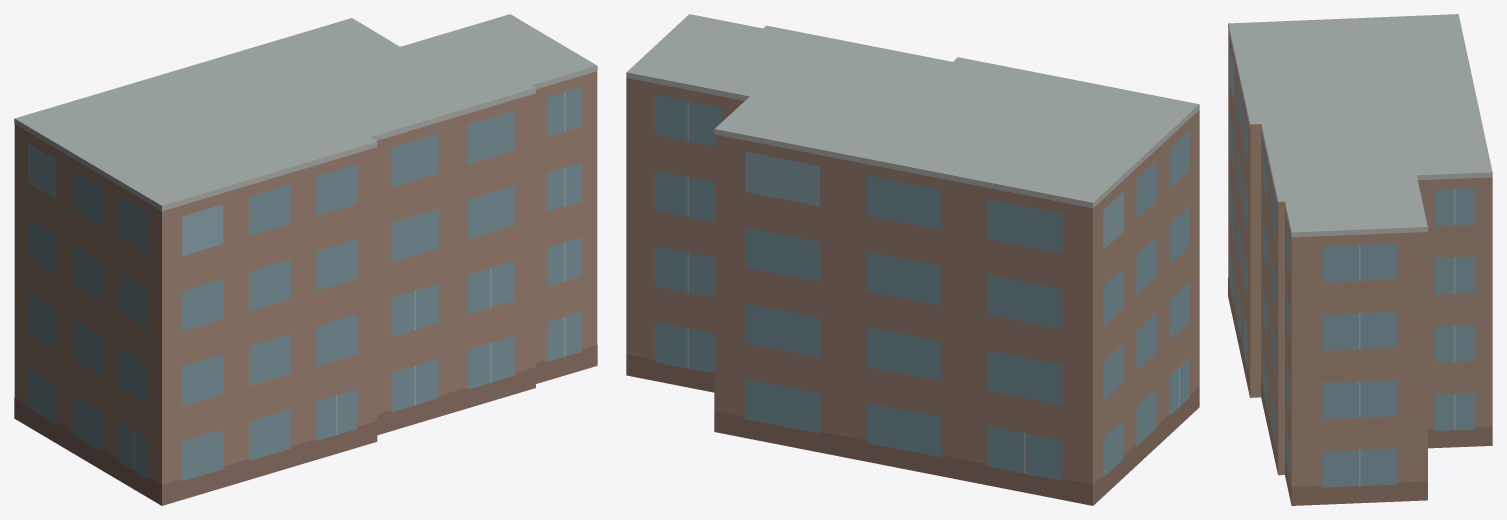
Rendered from survey-upis-32632740.glb.
The picture shows the model from 3 angles, left to right: view 1: azimuth 30°, elevation 25°; view 2: azimuth 150°, elevation 25°; view 3: azimuth 270°, elevation 25°; orthographic projection. The views are drawn at different scales.
Visible parts, largest first — view 1: survey-upis-32632740.tmp; view 2: survey-upis-32632740.tmp; view 3: survey-upis-32632740.tmp.
Boxes of the visible parts, x1=… form: survey-upis-32632740.tmp: x1=14, y1=14, x2=597, y2=505; survey-upis-32632740.tmp: x1=626, y1=14, x2=1199, y2=505; survey-upis-32632740.tmp: x1=1228, y1=14, x2=1492, y2=505.
Bounding box in the file's own units: 23.15 × 13.5 × 11.85.
